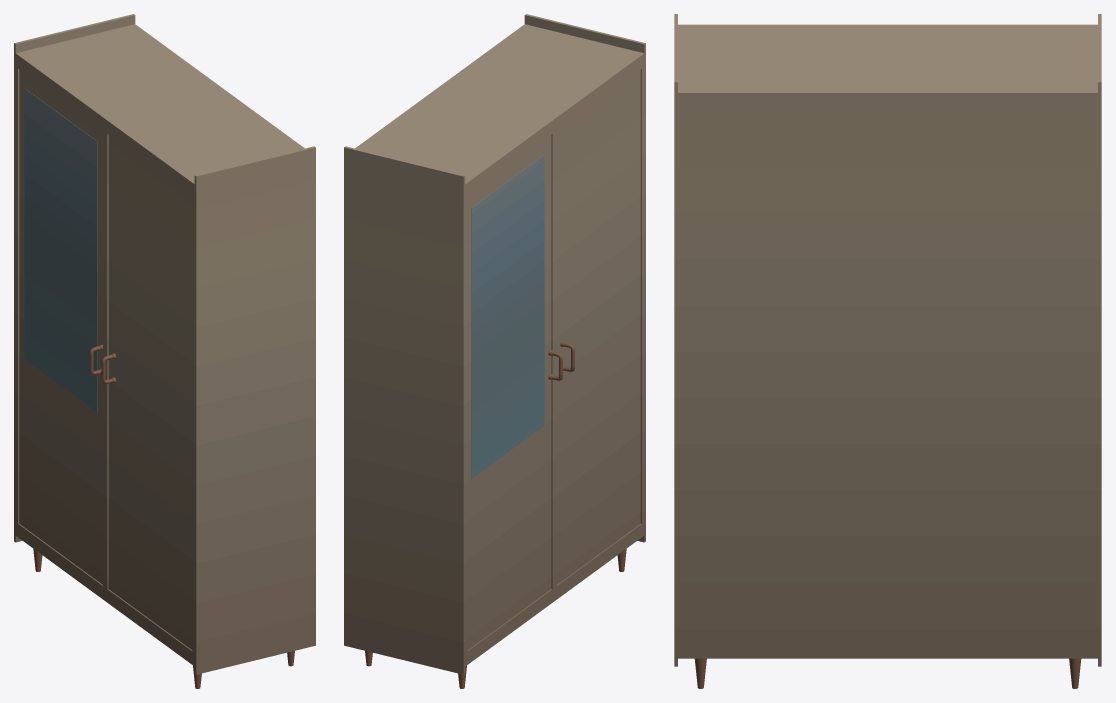
Rendered from wardrobe2.fbx.
3 renders of one model, left to right at view 1: azimuth 30°, elevation 25°; view 2: azimuth 150°, elevation 25°; view 3: azimuth 270°, elevation 25°, orthographic. The views are drawn at different scales.
Parts seen in each view (by area): view 1: wardrobe2; view 2: wardrobe2; view 3: wardrobe2.
Part boxes in pixels (x1,y1,x2,y2): wardrobe2: (14,14,315,688); wardrobe2: (344,14,645,688); wardrobe2: (674,14,1101,688).
Bounding box in the file's own units: 96.04 × 365 × 231.
